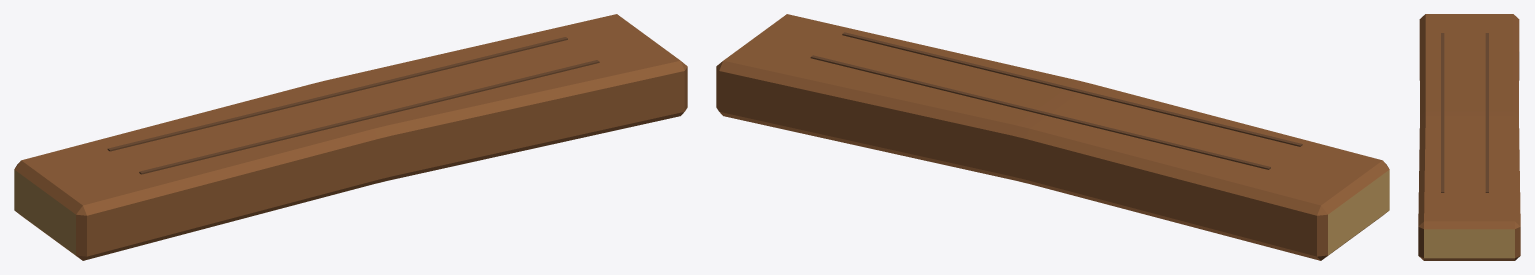
Rendered from item-plank.glb.
The picture shows the model from 3 angles, left to right: view 1: azimuth 30°, elevation 25°; view 2: azimuth 150°, elevation 25°; view 3: azimuth 270°, elevation 25°; orthographic projection. The views are drawn at different scales.
Visible parts, largest first — view 1: item-plank.001; view 2: item-plank.001; view 3: item-plank.001.
Part boxes in pixels (box(x1,y1,x2,y2)): item-plank.001: box(14, 14, 687, 260); item-plank.001: box(716, 14, 1389, 260); item-plank.001: box(1418, 14, 1520, 260).
Bounding box in the file's own units: 1.4 × 0.1377 × 0.2853.
